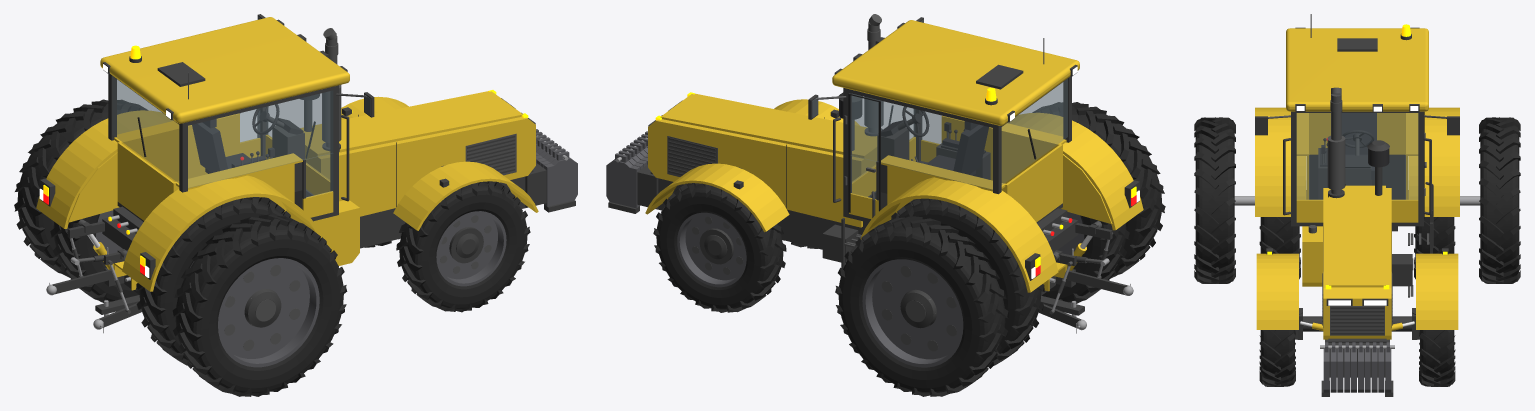
Rendered from row_crop_tractor.glb.
3 renders of one model, left to right at view 1: azimuth 30°, elevation 25°; view 2: azimuth 150°, elevation 25°; view 3: azimuth 270°, elevation 25°, orthographic. The views are drawn at different scales.
Parts seen in each view (by area): view 1: chassis, cab, wheel_rear_right_spin, wheel_front_right_spin, wheel_rear_left_spin, wheel_front_right_steer, hitch_tilt, wheel_front_left_steer, hitch_lift_arm_tilt; view 2: chassis, cab, wheel_rear_left_spin, wheel_front_left_spin, wheel_rear_right_spin, wheel_front_left_steer, hitch_tilt, wheel_front_right_steer, hitch_lift_arm_tilt; view 3: chassis, cab, wheel_rear_right_spin, wheel_rear_left_spin, wheel_front_right_steer, wheel_front_left_steer, wheel_front_right_spin, wheel_front_left_spin.
Part boxes in pixels (x1,y1,x2,y2): chassis: [36, 28, 577, 316]; cab: [100, 14, 374, 221]; wheel_rear_right_spin: [136, 197, 347, 396]; wheel_front_right_spin: [396, 181, 530, 312]; wheel_rear_left_spin: [14, 99, 147, 302]; wheel_front_right_steer: [393, 161, 538, 263]; hitch_tilt: [46, 269, 141, 333]; wheel_front_left_steer: [341, 96, 408, 119]; hitch_lift_arm_tilt: [67, 221, 127, 264]; chassis: [606, 14, 1143, 316]; cab: [808, 17, 1079, 268]; wheel_rear_left_spin: [835, 198, 1044, 396]; wheel_front_left_spin: [653, 183, 786, 312]; wheel_rear_right_spin: [1032, 102, 1165, 303]; wheel_front_left_steer: [645, 163, 789, 264]; hitch_tilt: [1038, 270, 1133, 333]; wheel_front_right_steer: [774, 99, 859, 125]; hitch_lift_arm_tilt: [1052, 223, 1112, 265]; chassis: [1255, 87, 1459, 396]; cab: [1255, 14, 1459, 297]; wheel_rear_right_spin: [1194, 117, 1300, 283]; wheel_rear_left_spin: [1414, 117, 1520, 283]; wheel_front_right_steer: [1256, 248, 1302, 339]; wheel_front_left_steer: [1412, 248, 1458, 339]; wheel_front_right_spin: [1259, 330, 1295, 386]; wheel_front_left_spin: [1419, 330, 1455, 386].
Size of the model in its own units: 6.25 by 3.45 by 4.01.
15 materials, 15 textured.
